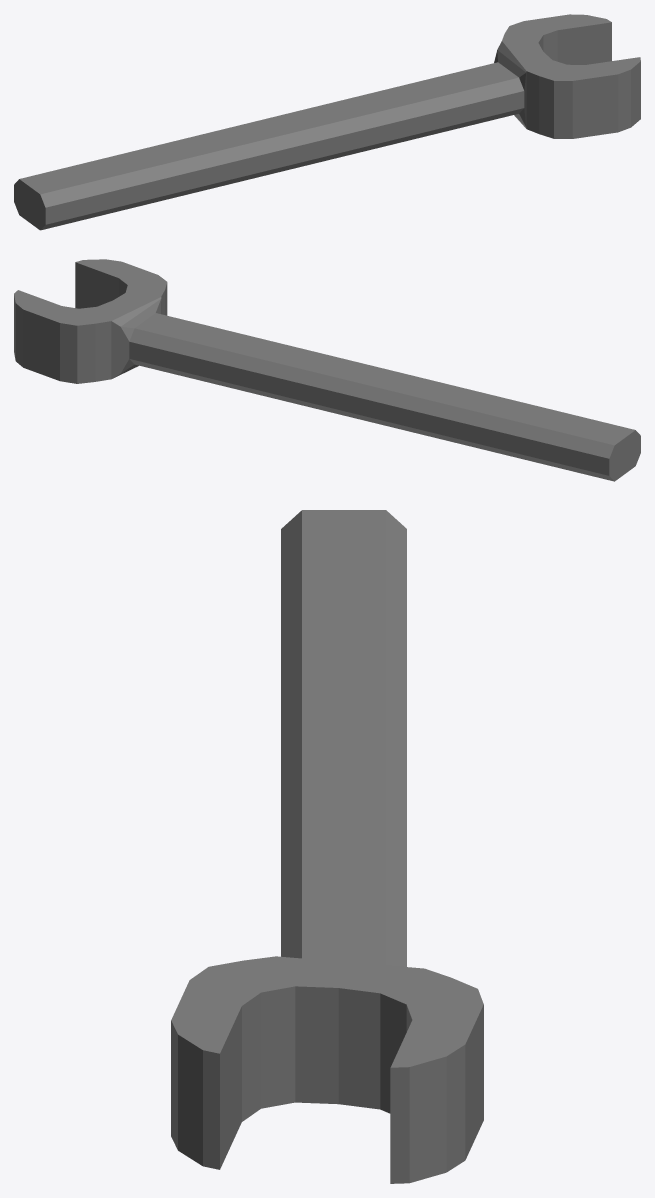
The model's file is HexWrench.fbx.
3 renders of one model, top to bottom at view 1: azimuth 30°, elevation 25°; view 2: azimuth 150°, elevation 25°; view 3: azimuth 270°, elevation 25°, orthographic. The views are drawn at different scales.
Visible parts, largest first — view 1: Cube; view 2: Cube; view 3: Cube.
Boxes of the visible parts, box(x1,y1,x2,y2) form: Cube: box(14, 14, 640, 230); Cube: box(14, 259, 640, 481); Cube: box(171, 510, 483, 1183).
Size of the model in its own units: 98.73 by 9.23 by 22.51.
